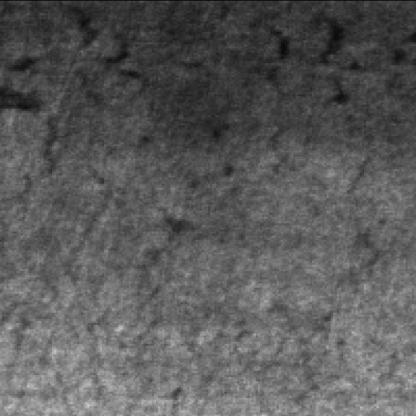crazing: (253, 232, 384, 416), (262, 16, 381, 200)
